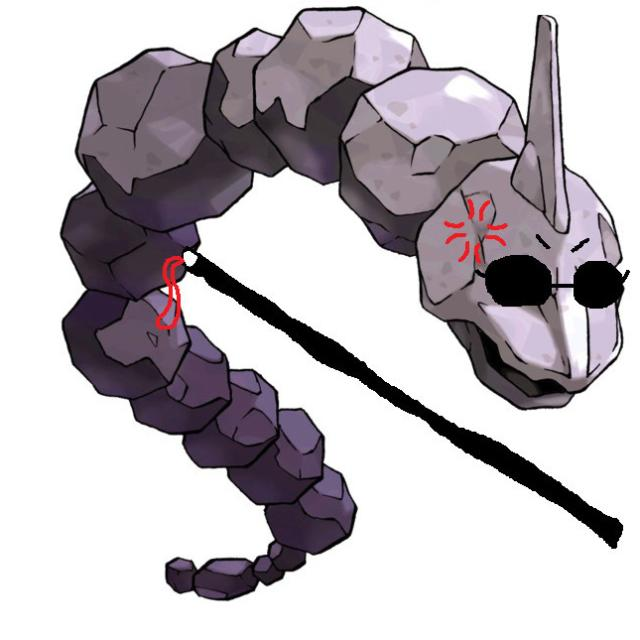Onix: (58, 13, 626, 421)
